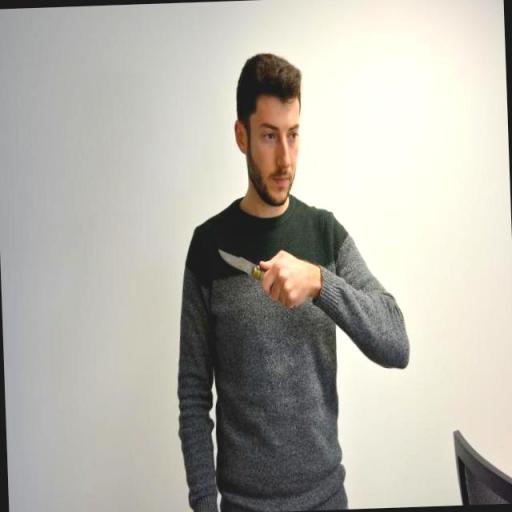knife: (214, 240, 276, 296)
